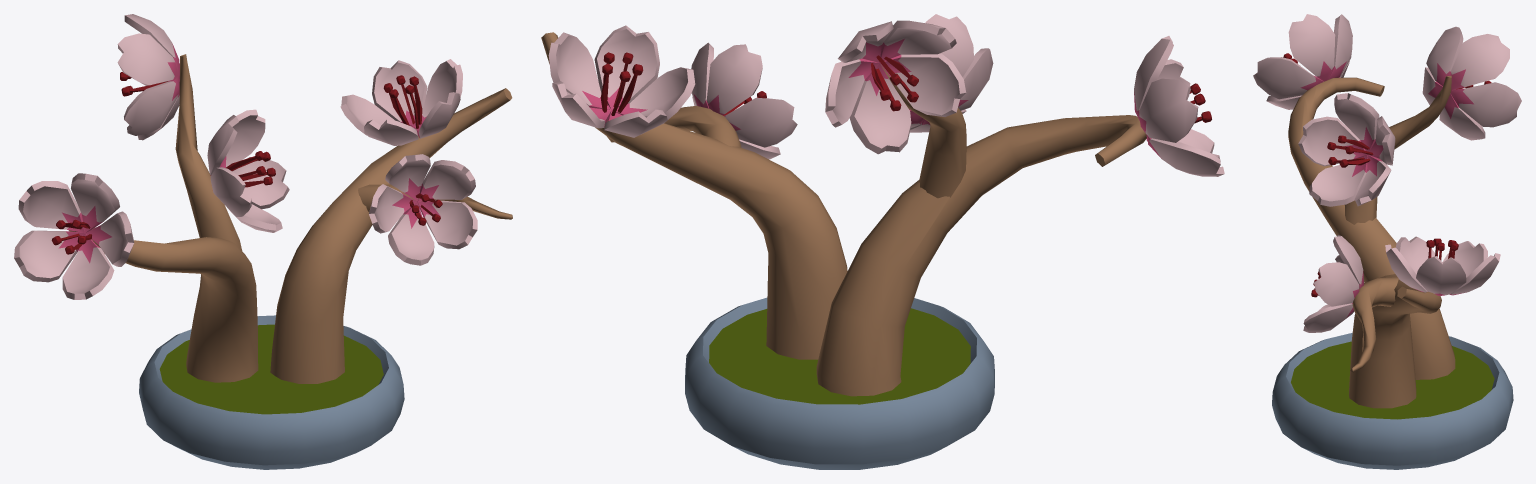
File: sakura-tree.glb
3 renders of one model, left to right at view 1: azimuth 30°, elevation 25°; view 2: azimuth 150°, elevation 25°; view 3: azimuth 270°, elevation 25°, orthographic. The views are drawn at different scales.
Parts seen in each view (by area): view 1: Decoration_SakuraTree; view 2: Decoration_SakuraTree; view 3: Decoration_SakuraTree.
Part boxes in pixels (box(x1,y1,x2,y2)): Decoration_SakuraTree: box(14, 14, 512, 469); Decoration_SakuraTree: box(541, 14, 1224, 469); Decoration_SakuraTree: box(1253, 14, 1521, 469).
Size of the model in its own units: 4.72 by 3.38 by 2.25.
